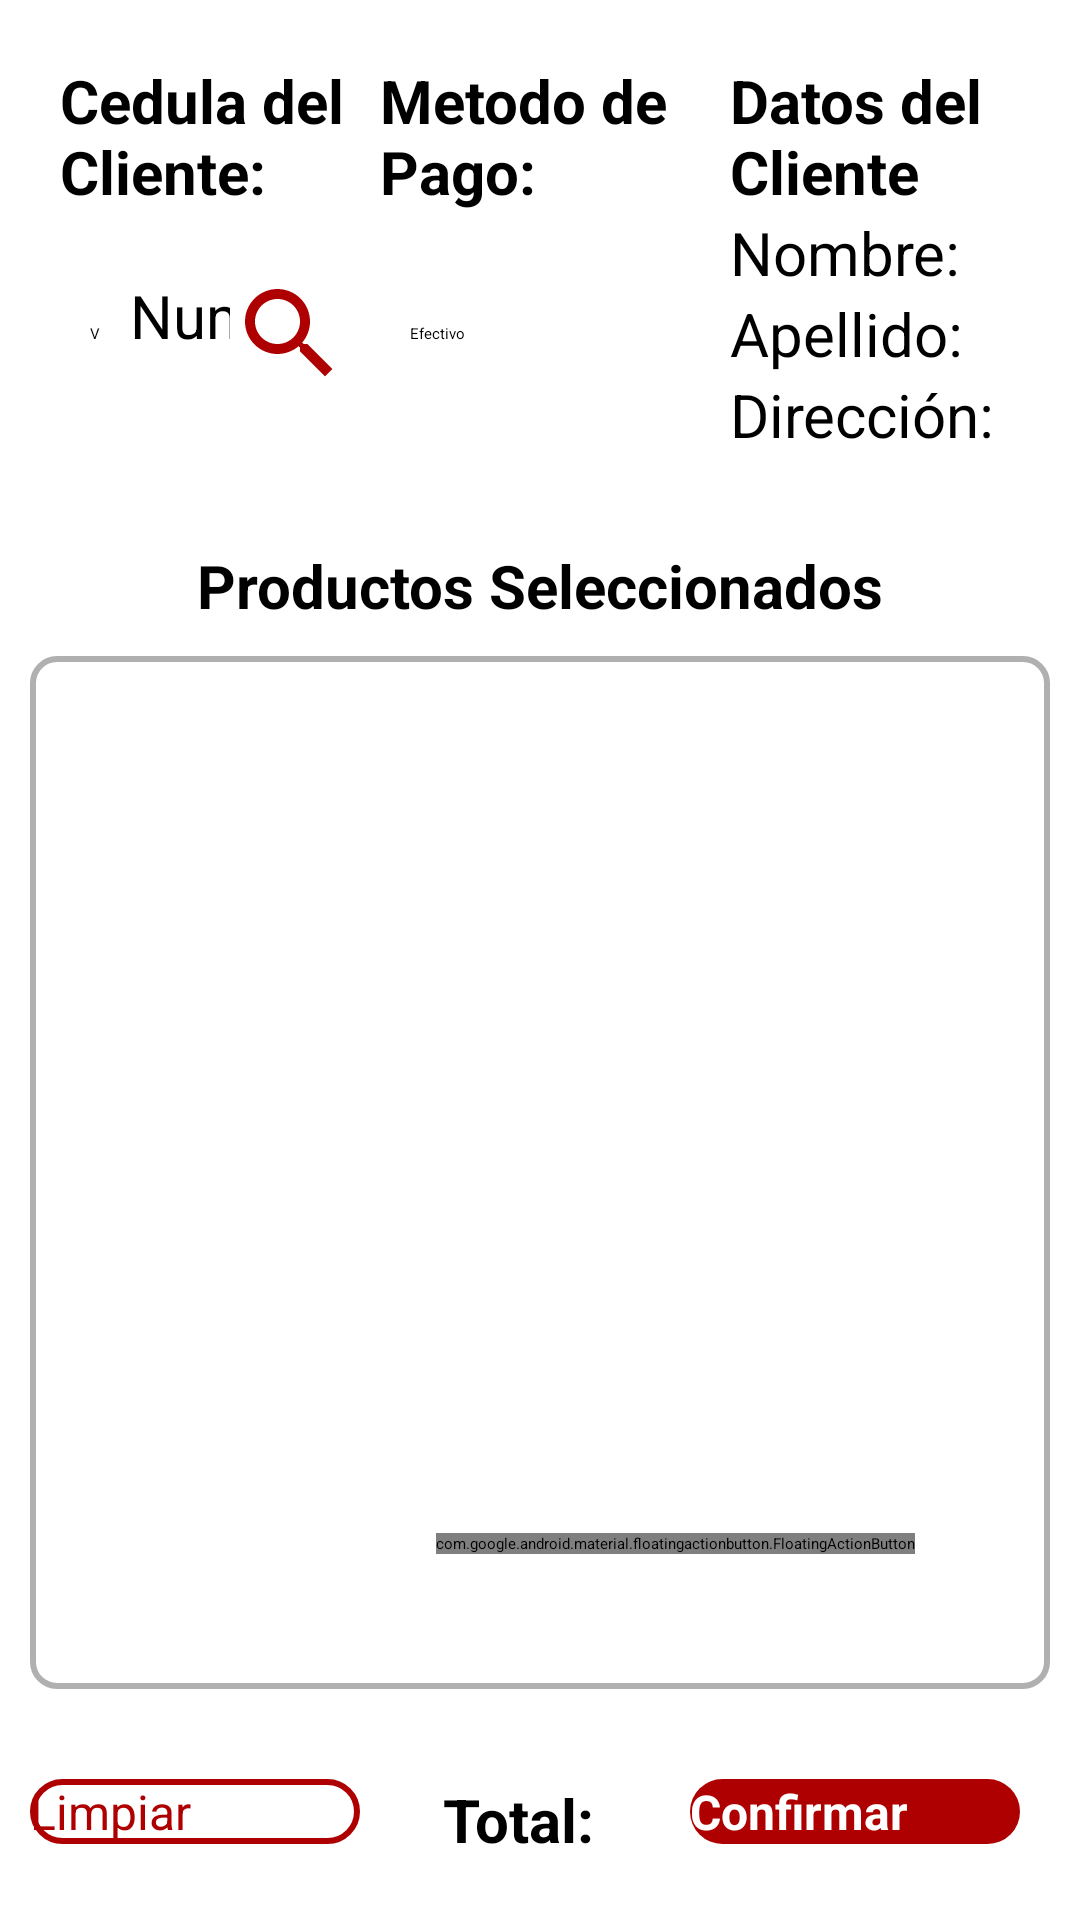

Icon bounding boxes for this 1080w x 1920h phone screenshot, format (x1=x1, y1=y1, x2=x2, y2=y2):
buscar: (x1=245, y1=289, x2=332, y2=376)
